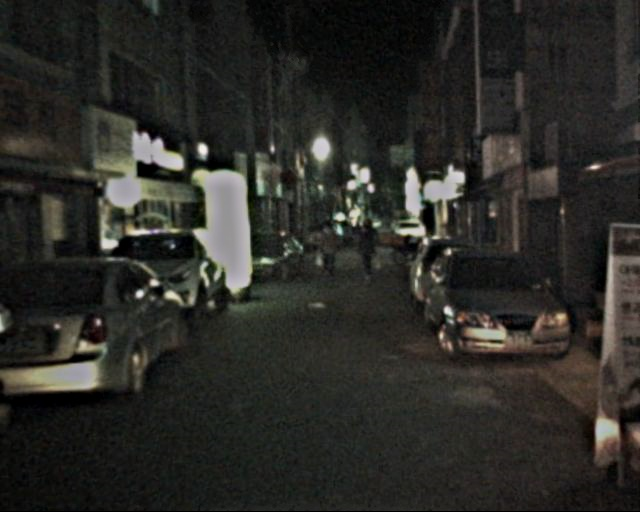person: (315, 221, 342, 286), (354, 224, 379, 286)
